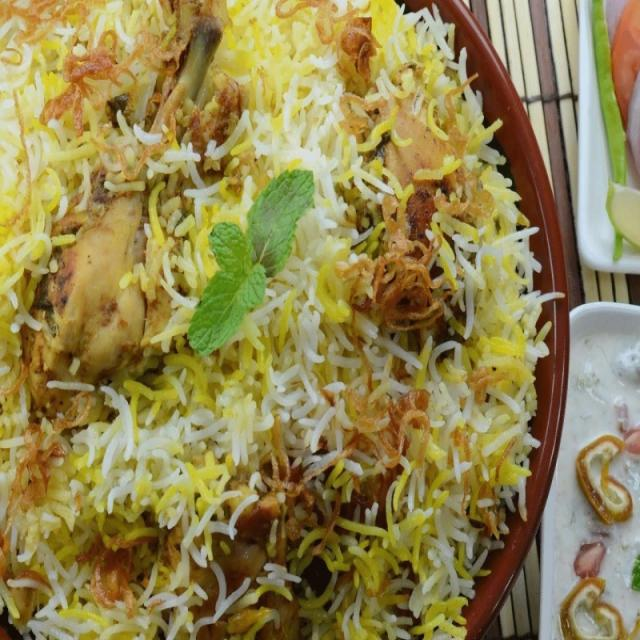Biryani: (0, 6, 543, 639)
